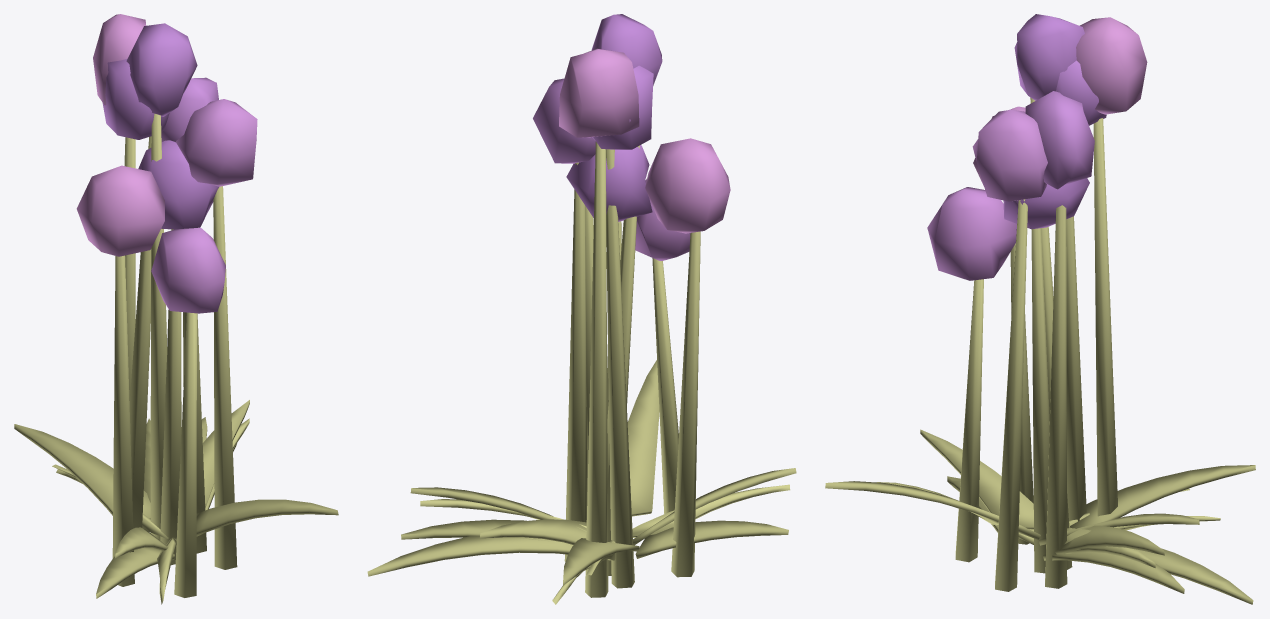
File: thistle_2.glb
3 views of the same model, side by side, from view 1: azimuth 30°, elevation 25°; view 2: azimuth 150°, elevation 25°; view 3: azimuth 270°, elevation 25° (orthographic). The views are drawn at different scales.
Parts seen in each view (by area): view 1: thistle; view 2: thistle; view 3: thistle.
Boxes of the visible parts, x1=… form: thistle: x1=14, y1=14, x2=338, y2=604; thistle: x1=367, y1=14, x2=796, y2=604; thistle: x1=825, y1=14, x2=1255, y2=604.
Size of the model in its own units: 0.3283 by 0.6476 by 0.4584.
